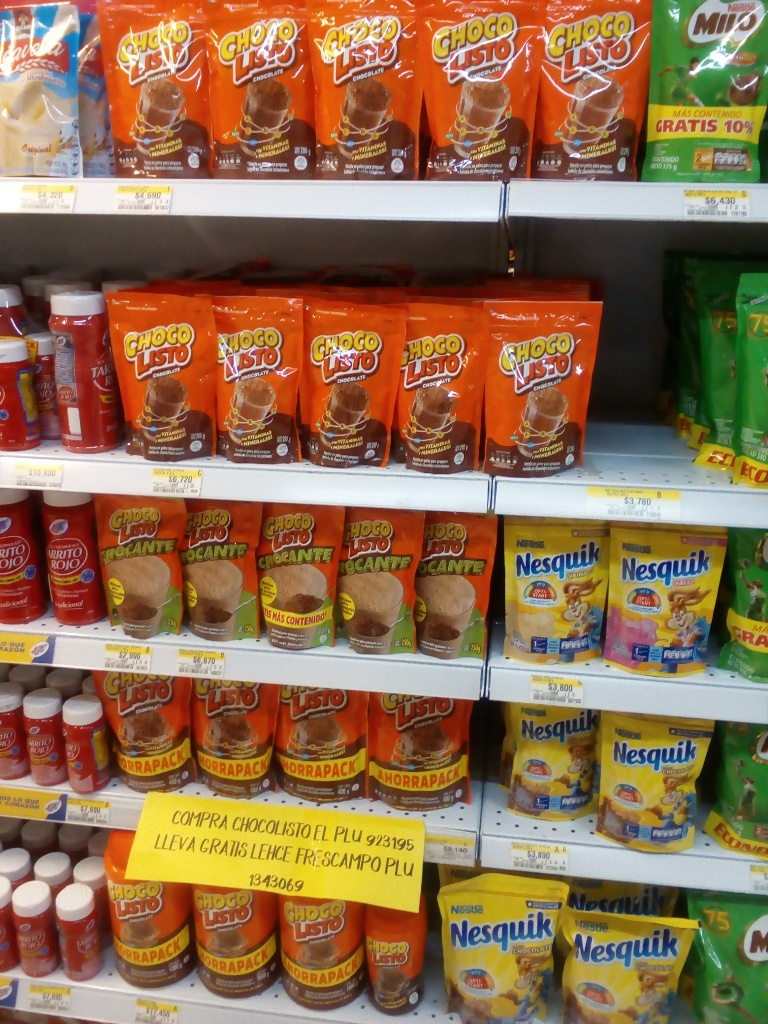COL0170102DYP25000: (92, 491, 188, 638)
COL0170103DYP20000: (96, 1, 216, 182)
COL0170103DYP40000: (96, 667, 193, 796)
COL0170103TRR00100: (100, 828, 189, 994)
COL0170103TRR30000: (362, 887, 427, 1017)
COL0170203DYP50000: (717, 530, 767, 681)
COL0170303DYP20000: (508, 704, 599, 823)
COL0170305DYP20000: (609, 520, 725, 682)
COL0170306DYP20000: (502, 514, 606, 664)
